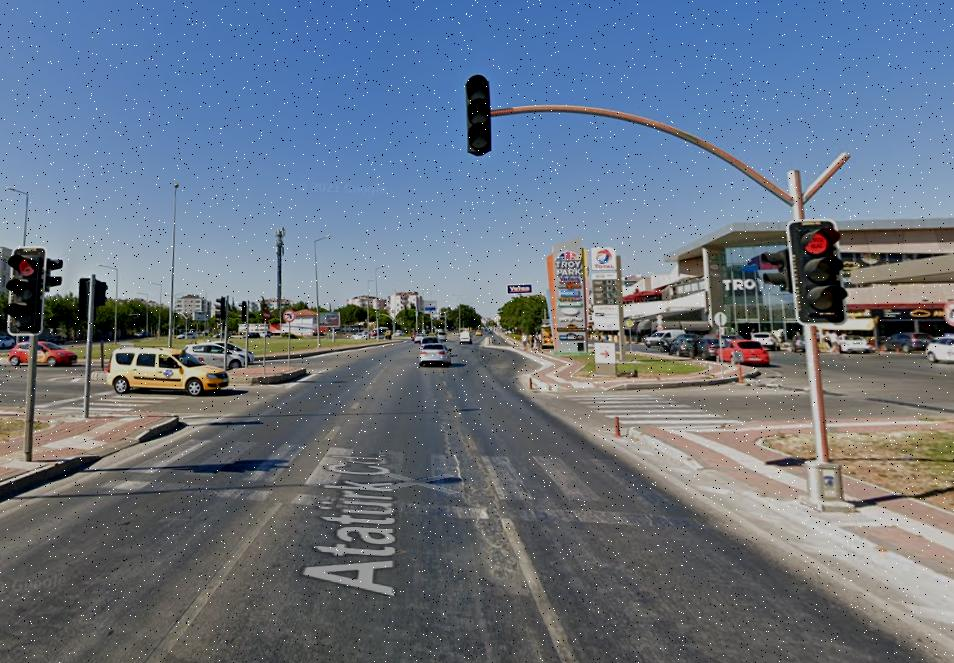redlight: (792, 223, 844, 315), (6, 245, 42, 330)
